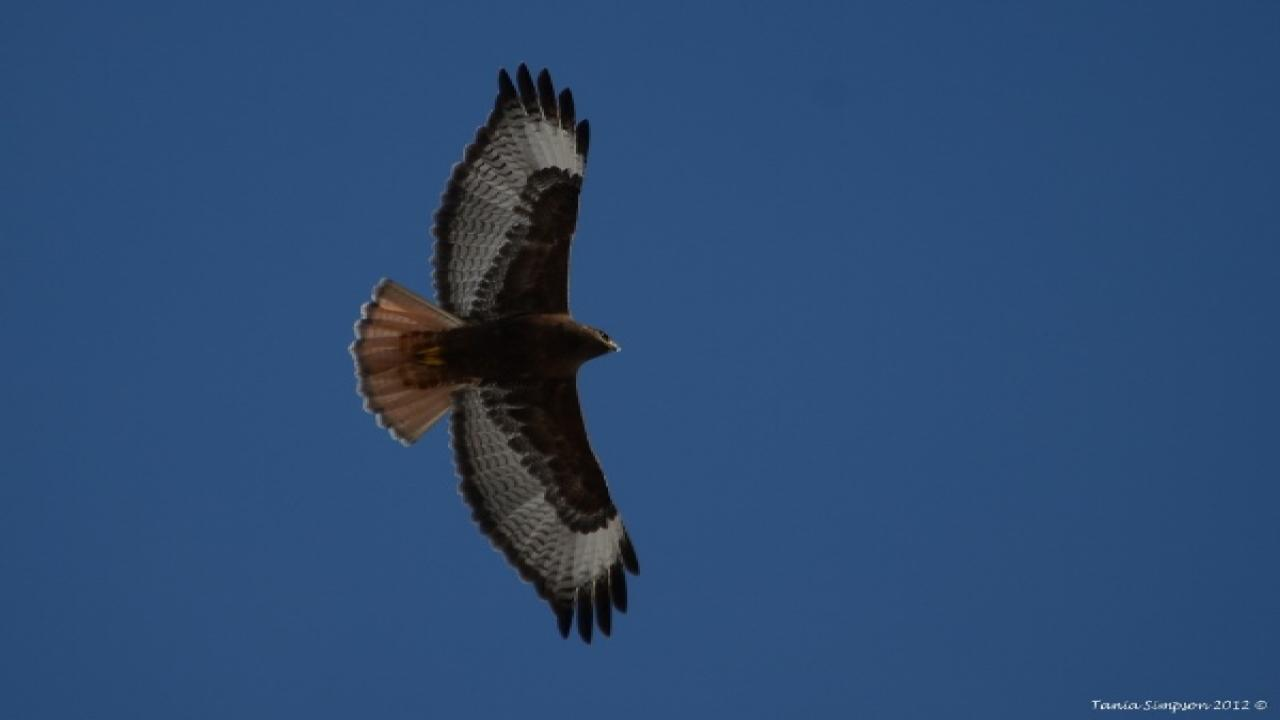Bird: (330, 55, 668, 655)
